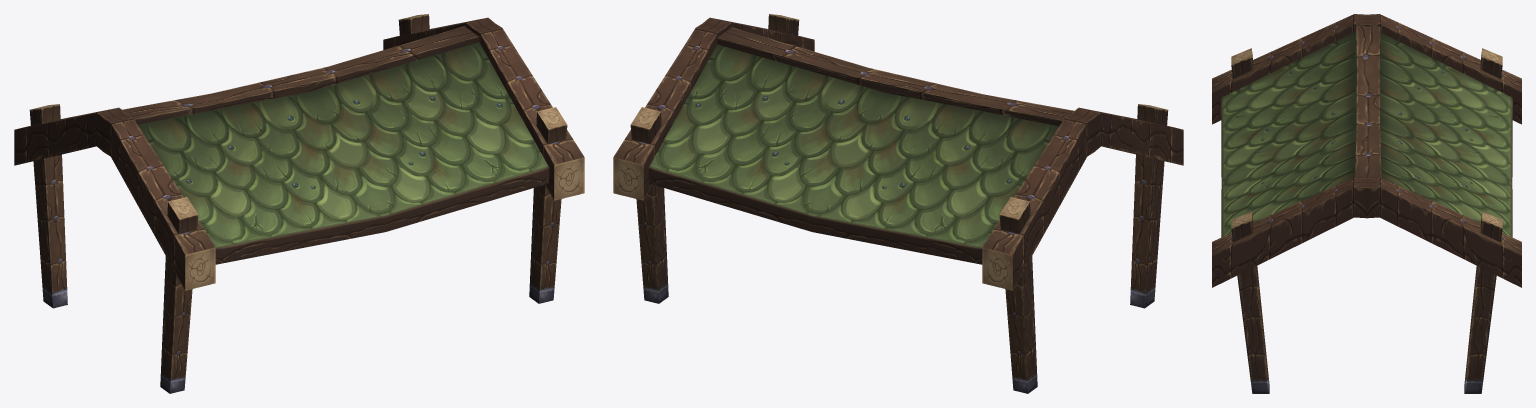
File: big_roof_01.fbx
3 renders of one model, left to right at view 1: azimuth 30°, elevation 25°; view 2: azimuth 150°, elevation 25°; view 3: azimuth 270°, elevation 25°, orthographic. The views are drawn at different scales.
Visible parts, largest first — view 1: big_roof_01; view 2: big_roof_01; view 3: big_roof_01.
Part boxes in pixels (x1,y1,x2,y2): big_roof_01: [14, 14, 584, 393]; big_roof_01: [613, 14, 1183, 393]; big_roof_01: [1212, 14, 1521, 393].
Size of the model in its own units: 12.35 by 6.8 by 9.15.
